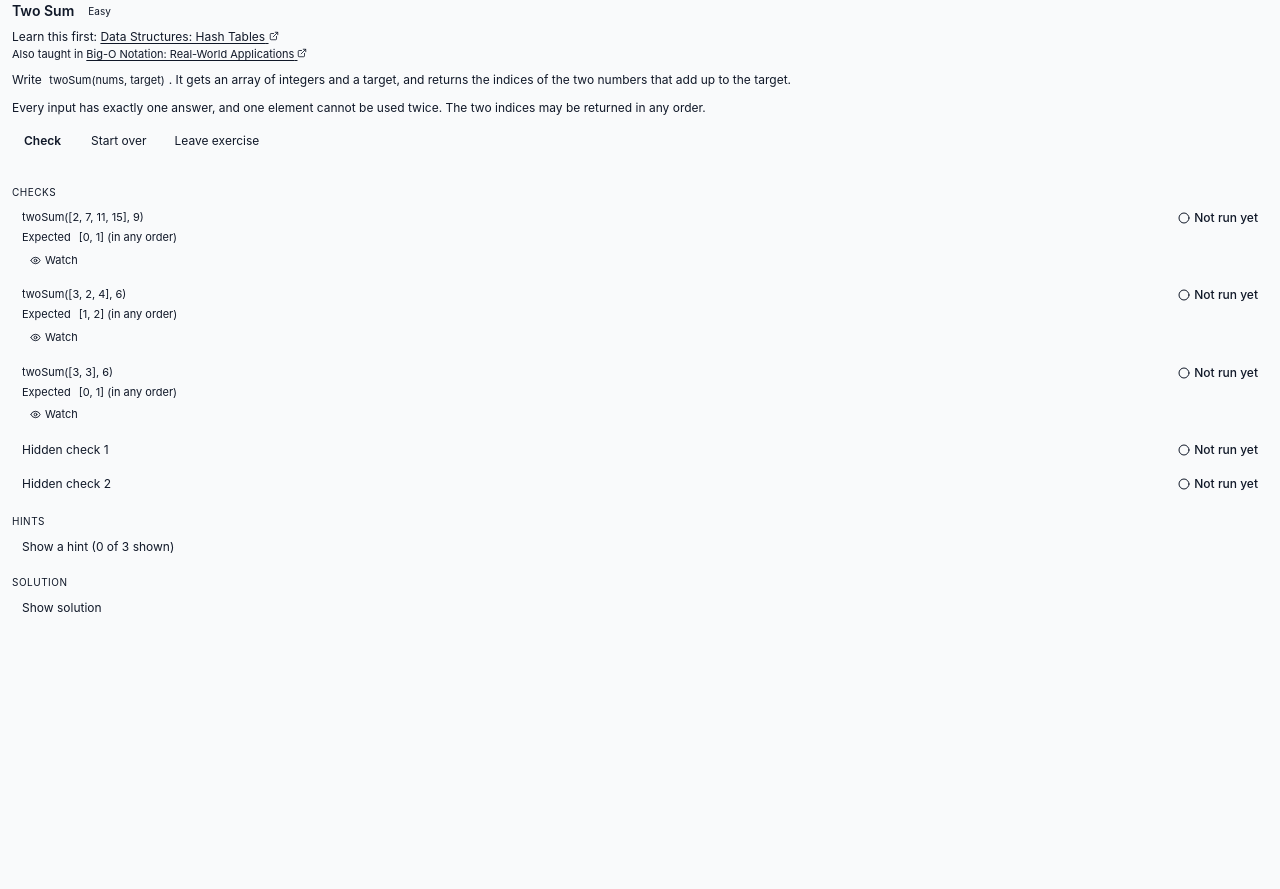
TaskPanel › the solution › shows the explanation and the code read-only once confirmed, and says so politely
Step 1. Click the button "Show solution" → (62, 608), box left=12, top=596, right=112, bottom=620
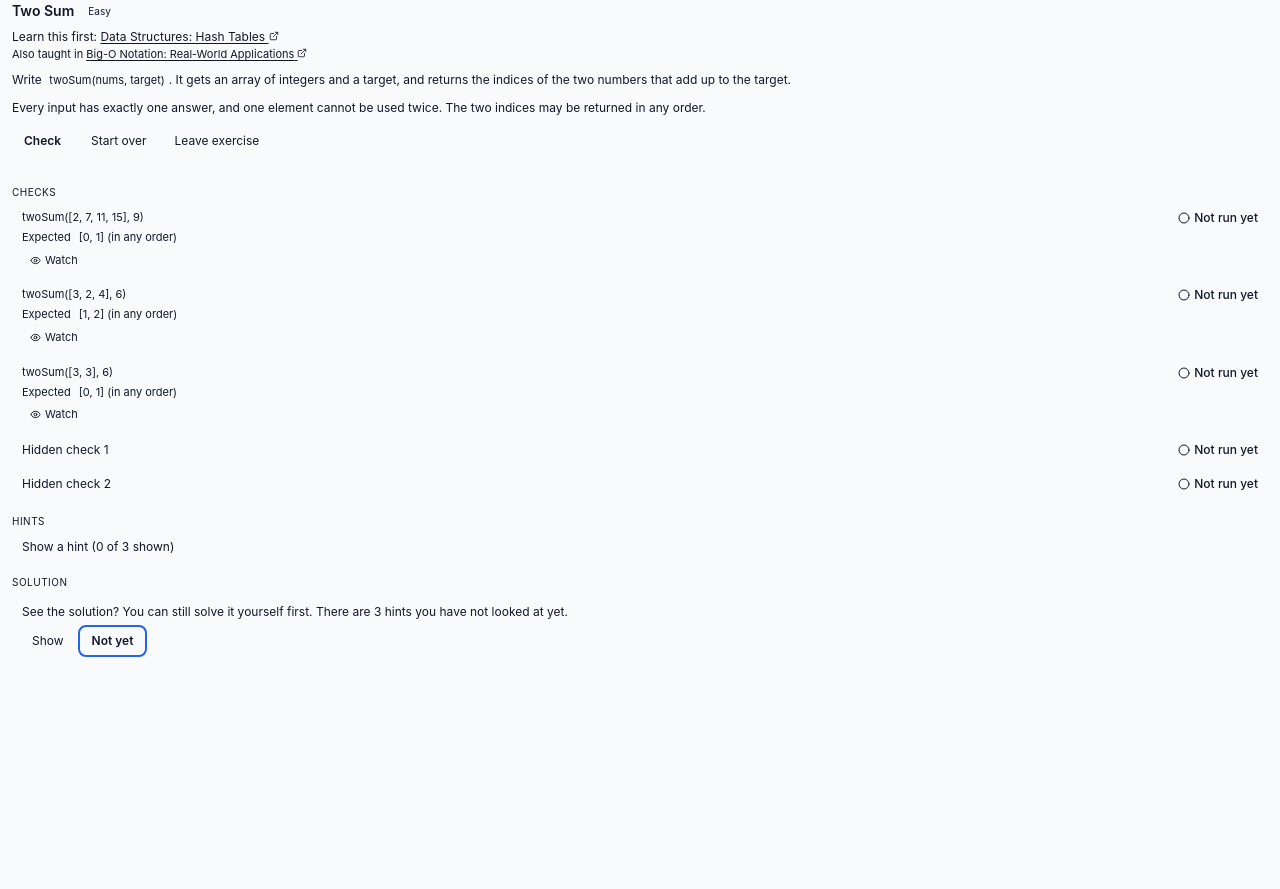
Step 2. Click the button "Show" → (48, 642), box left=22, top=630, right=74, bottom=654
(page scrolled)
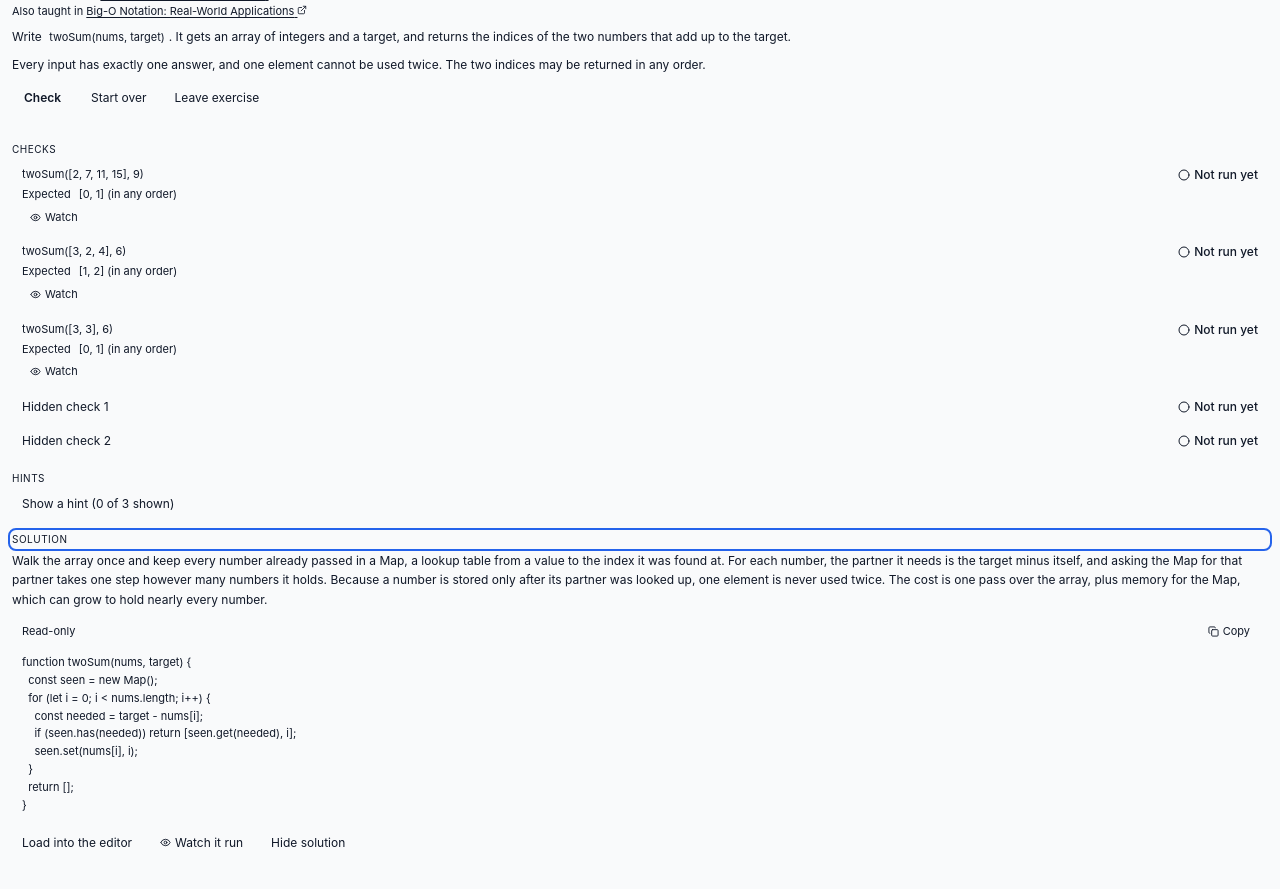
Check: the text "Walk the array once" is shown, box left=12, top=553, right=1242, bottom=607
Step 3. Click the button "Hide solution" → (308, 843), box left=261, top=831, right=355, bottom=855
(page scrolled)
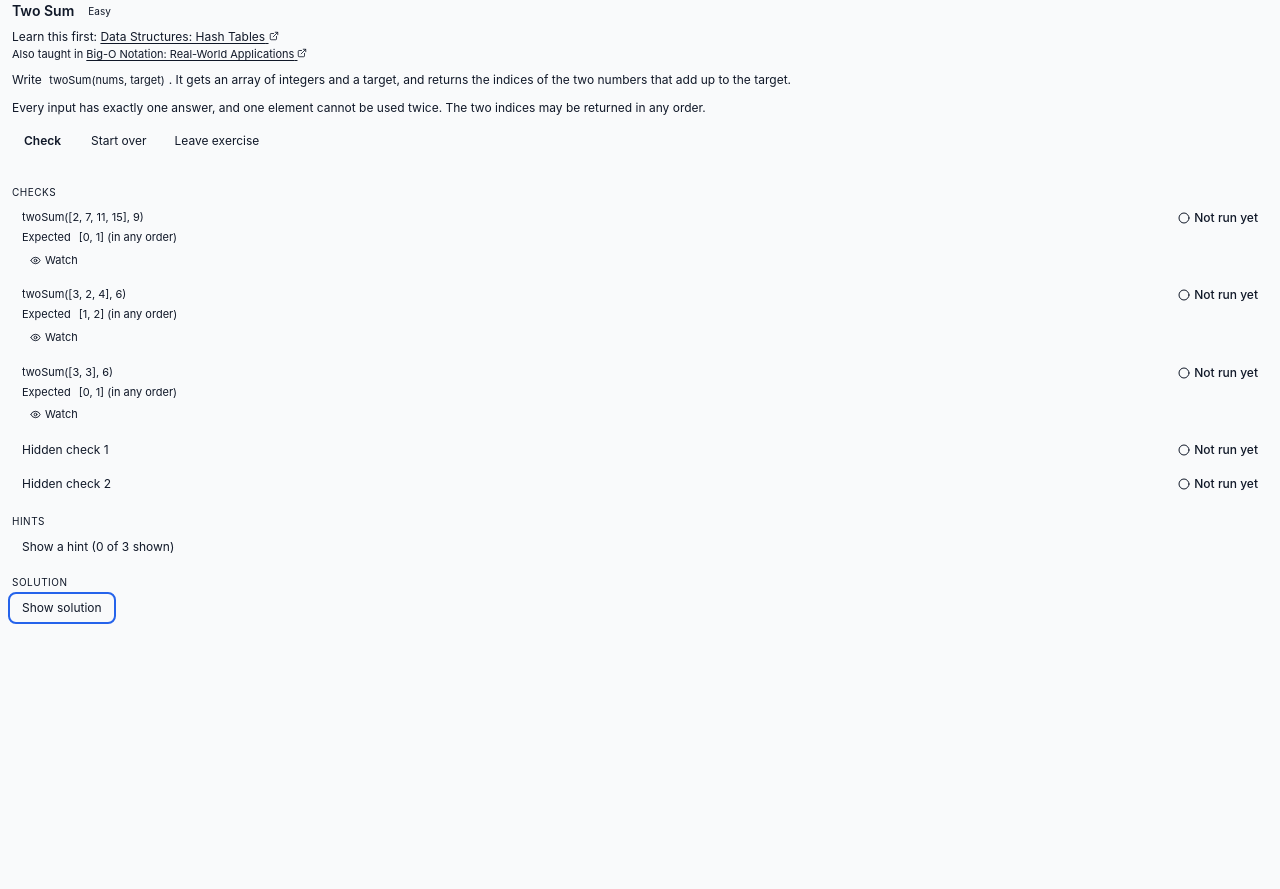
Check: the text "Walk the array once" is gone
